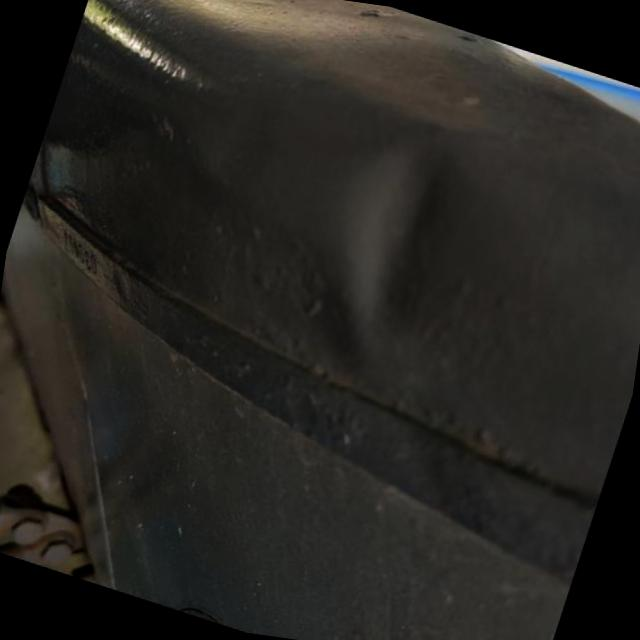dent: (292, 117, 516, 375)
